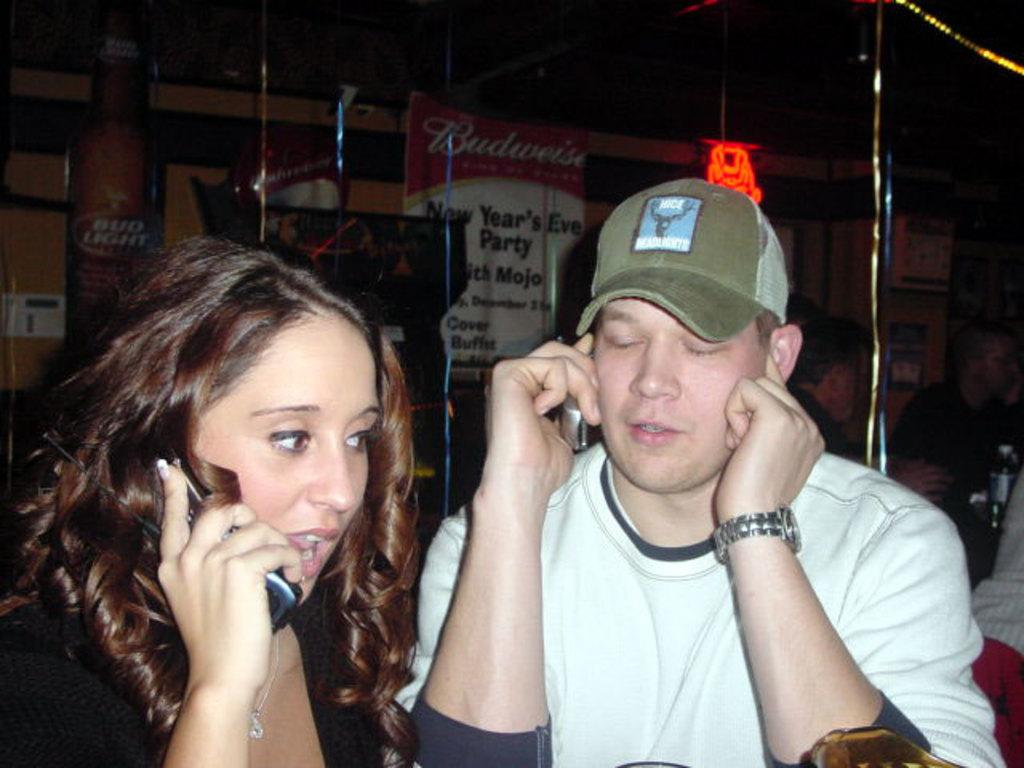Hat: (574, 175, 787, 345)
